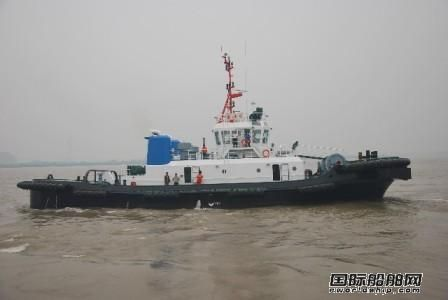otherboat: (13, 62, 411, 213)
